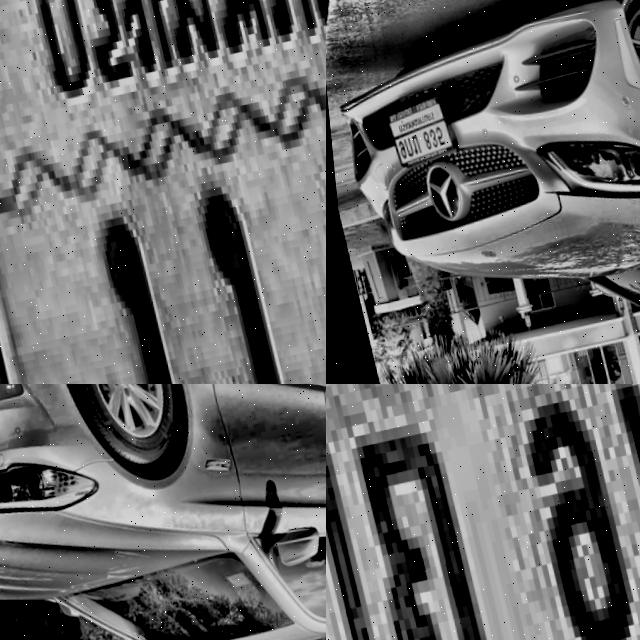license-plate: (0, 0, 326, 384), (326, 384, 640, 640), (376, 88, 457, 174)
